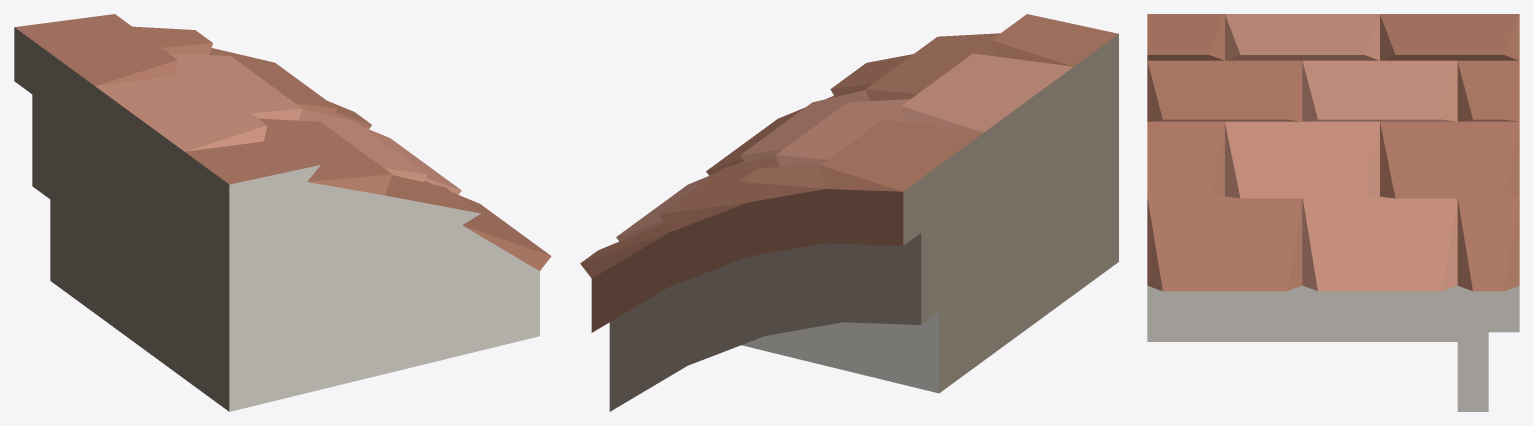
Rendered from Roof_Convex_Side_Edge.glb.
3 renders of one model, left to right at view 1: azimuth 30°, elevation 25°; view 2: azimuth 150°, elevation 25°; view 3: azimuth 270°, elevation 25°, orthographic. The views are drawn at different scales.
Visible parts, largest first — view 1: object1; view 2: object1; view 3: object1.
Part boxes in pixels (x1,y1,x2,y2): object1: (14, 14, 551, 411); object1: (580, 14, 1118, 411); object1: (1147, 14, 1519, 411).
Size of the model in its own units: 1.07 by 0.9495 by 1.2.
